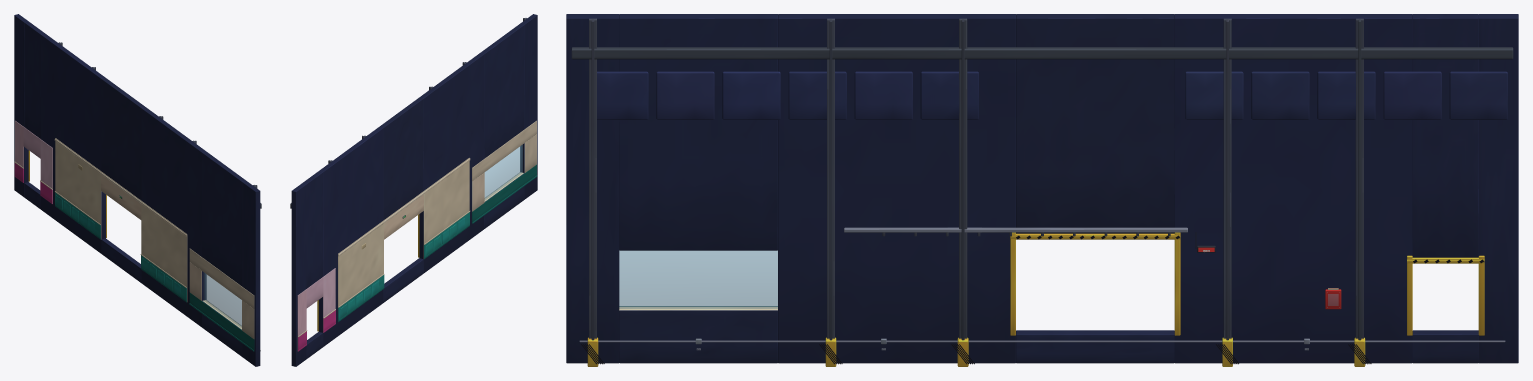
File: SM_Stage4_EntryWall.fbx
3 views of the same model, side by side, from view 1: azimuth 30°, elevation 25°; view 2: azimuth 150°, elevation 25°; view 3: azimuth 270°, elevation 25° (orthographic). The views are drawn at different scales.
Visible parts, largest first — view 1: SM_Stage4_EntryWall; view 2: SM_Stage4_EntryWall; view 3: SM_Stage4_EntryWall.
Boxes of the visible parts, box(x1,y1,x2,y2) form: SM_Stage4_EntryWall: box(14, 14, 261, 366); SM_Stage4_EntryWall: box(290, 14, 537, 366); SM_Stage4_EntryWall: box(566, 14, 1518, 366).
Size of the model in its own units: 85.14 by 1441 by 3600.
